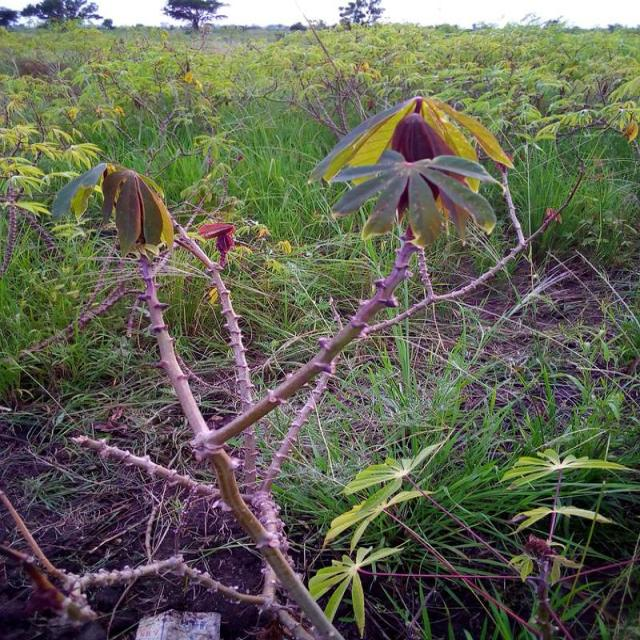cassava leaf: (309, 94, 514, 248), (102, 167, 175, 260)
